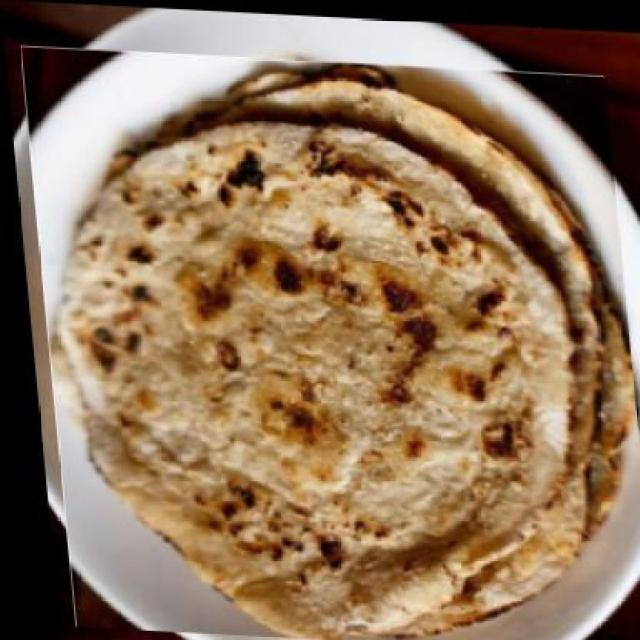chapati: (19, 43, 638, 639)
